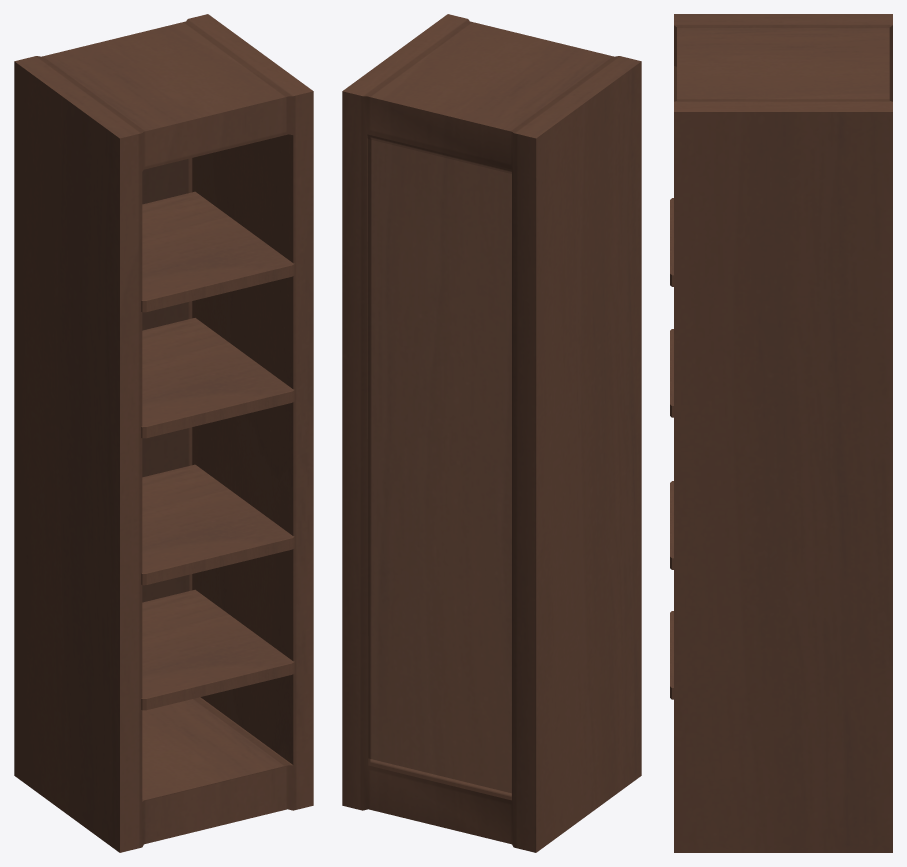
The model's file is shelf_asset.fbx.
3 renders of one model, left to right at view 1: azimuth 30°, elevation 25°; view 2: azimuth 150°, elevation 25°; view 3: azimuth 270°, elevation 25°, orthographic. The views are drawn at different scales.
Visible parts, largest first — view 1: Shelf; view 2: Shelf; view 3: Shelf.
Part boxes in pixels (box(x1,y1,x2,y2)): Shelf: box(14, 14, 313, 852); Shelf: box(342, 14, 641, 852); Shelf: box(670, 14, 892, 852).
Bounding box in the file's own units: 4.22 × 14.88 × 4.05.
